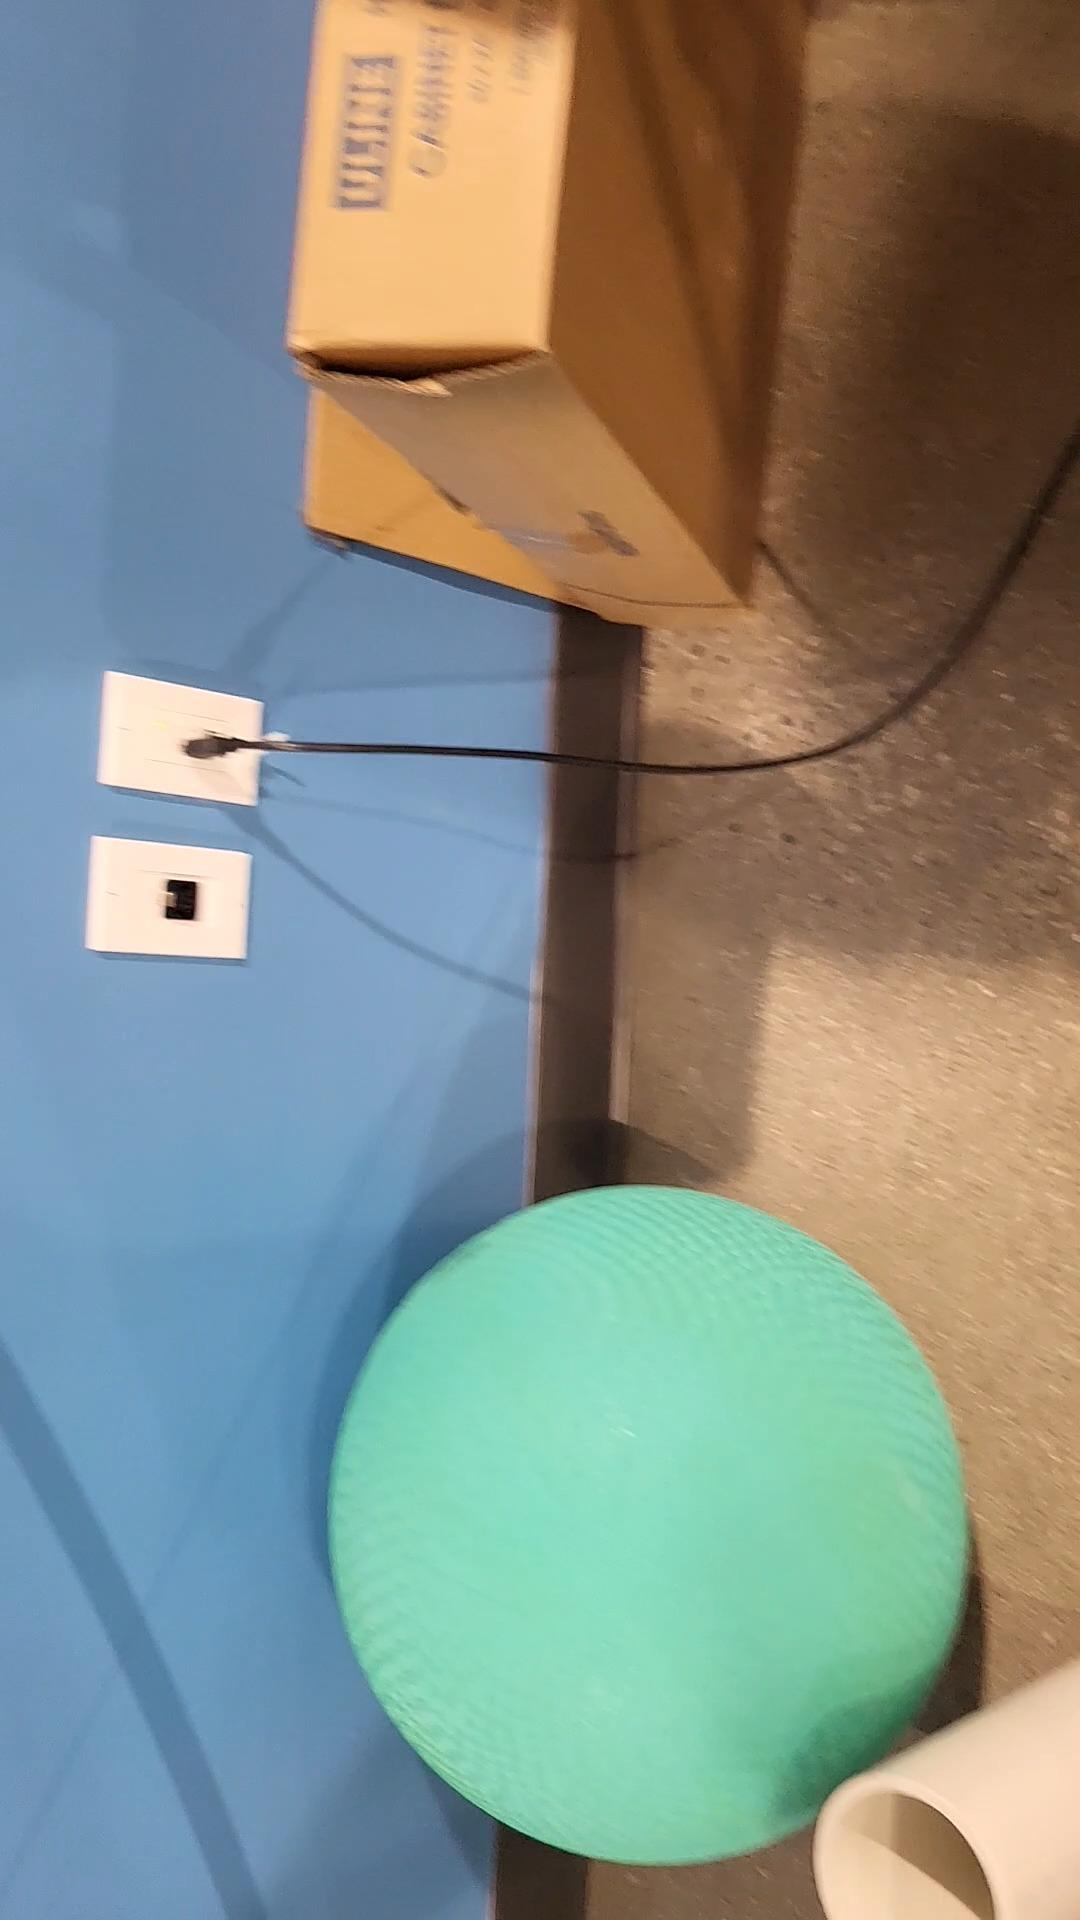algae: (324, 1185, 972, 1870)
coral: (818, 1647, 1080, 1919)
